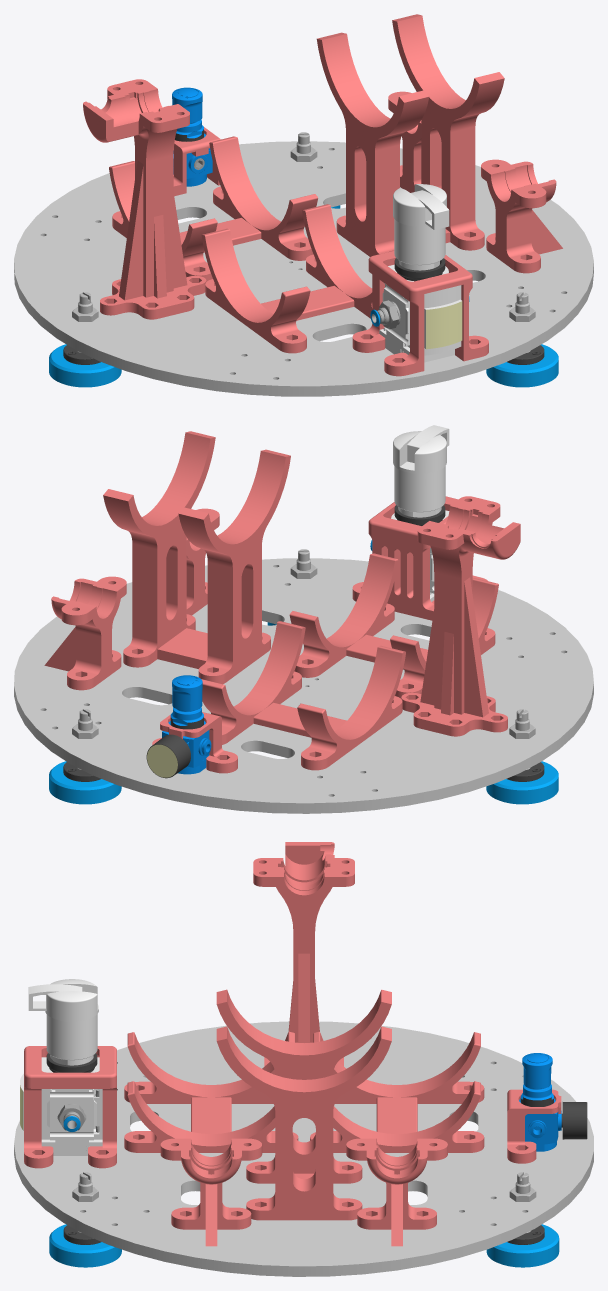
The picture shows the model from 3 angles, top to bottom: view 1: azimuth 30°, elevation 25°; view 2: azimuth 150°, elevation 25°; view 3: azimuth 270°, elevation 25°; orthographic projection.
Parts seen in each view (by area): view 1: alpha3_bottom_plate-1 - Part_clonedChild, alpha3_bottle_mount_hori_top-1 - Part, alpha3_bottle_conncet_bot_mid-1 - Part, alpha3_bottle_mount_hori-1 - Part, alpha3_bottle_mount_hori-2 - Part, 527690 MS4-LR-1_4-D7-AS-1 - Part, alpha3_regulator_actuator_mounting-1 - Part, alpha3_bottle_conncet_bot-2 - Part, 8078093 MS2-LR-2---(mechanical high)p-1 - Part, S105001step12 - Part 3, S105001.step<1>[2] - Part, alpha3_bottle_conncet_bot-1 - Part (+4 smaller); view 2: alpha3_bottom_plate-1 - Part_clonedChild, alpha3_bottle_mount_hori_top-1 - Part, alpha3_bottle_conncet_bot_mid-1 - Part, alpha3_bottle_mount_hori-2 - Part, alpha3_bottle_mount_hori-1 - Part, alpha3_bottle_conncet_bot-1 - Part, 527690 MS4-LR-1_4-D7-AS-1 - Part, alpha3_regulator_actuator_mounting-1 - Part, 8078093 MS2-LR-2---(mechanical high)p-1 - Part, S105001step12 - Part 2, S105001step12 - Part 3, alpha3_regulator_levitation_mounting-1 - Part (+3 smaller); view 3: alpha3_bottom_plate-1 - Part_clonedChild, alpha3_bottle_mount_hori_top-1 - Part, alpha3_bottle_mount_hori-1 - Part, alpha3_bottle_mount_hori-2 - Part, 527690 MS4-LR-1_4-D7-AS-1 - Part, alpha3_bottle_conncet_bot_mid-1 - Part, alpha3_regulator_actuator_mounting-1 - Part, alpha3_bottle_conncet_bot-2 - Part, alpha3_bottle_conncet_bot-1 - Part, 8078093 MS2-LR-2---(mechanical high)p-1 - Part, alpha3_regulator_levitation_mounting-1 - Part, S105001step12 - Part 2 (+2 smaller).
Boxes of the visible parts, box(x1,y1,x2,y2) form: alpha3_bottom_plate-1 - Part_clonedChild: box(14, 141, 593, 396); alpha3_bottle_mount_hori_top-1 - Part: box(316, 14, 504, 256); alpha3_bottle_conncet_bot_mid-1 - Part: box(83, 79, 206, 319); alpha3_bottle_mount_hori-1 - Part: box(201, 204, 372, 353); alpha3_bottle_mount_hori-2 - Part: box(109, 136, 318, 281); 527690 MS4-LR-1_4-D7-AS-1 - Part: box(379, 184, 461, 362); alpha3_regulator_actuator_mounting-1 - Part: box(352, 251, 488, 376); alpha3_bottle_conncet_bot-2 - Part: box(481, 159, 562, 273); 8078093 MS2-LR-2---(mechanical high)p-1 - Part: box(172, 87, 212, 186); S105001step12 - Part 3: box(49, 344, 121, 386); S105001.step<1>[2] - Part: box(486, 344, 558, 386); alpha3_bottle_conncet_bot-1 - Part: box(388, 91, 421, 192); alpha3_bottom_plate-1 - Part_clonedChild: box(14, 558, 593, 813); alpha3_bottle_mount_hori_top-1 - Part: box(103, 431, 290, 684); alpha3_bottle_conncet_bot_mid-1 - Part: box(401, 496, 520, 736); alpha3_bottle_mount_hori-2 - Part: box(201, 621, 405, 770); alpha3_bottle_mount_hori-1 - Part: box(289, 553, 498, 698); alpha3_bottle_conncet_bot-1 - Part: box(44, 576, 126, 690); 527690 MS4-LR-1_4-D7-AS-1 - Part: box(391, 425, 449, 601); alpha3_regulator_actuator_mounting-1 - Part: box(352, 496, 487, 620); 8078093 MS2-LR-2---(mechanical high)p-1 - Part: box(162, 675, 211, 774); S105001step12 - Part 2: box(49, 761, 121, 803); S105001step12 - Part 3: box(486, 761, 558, 803); alpha3_regulator_levitation_mounting-1 - Part: box(152, 712, 237, 773); alpha3_bottom_plate-1 - Part_clonedChild: box(14, 1021, 593, 1276); alpha3_bottle_mount_hori_top-1 - Part: box(216, 989, 391, 1220); alpha3_bottle_mount_hori-1 - Part: box(124, 1031, 298, 1152); alpha3_bottle_mount_hori-2 - Part: box(310, 1032, 484, 1152); 527690 MS4-LR-1_4-D7-AS-1 - Part: box(20, 979, 102, 1155); alpha3_bottle_conncet_bot_mid-1 - Part: box(253, 842, 354, 1066); alpha3_regulator_actuator_mounting-1 - Part: box(24, 1046, 116, 1168); alpha3_bottle_conncet_bot-2 - Part: box(160, 1138, 262, 1246); alpha3_bottle_conncet_bot-1 - Part: box(346, 1138, 447, 1246); 8078093 MS2-LR-2---(mechanical high)p-1 - Part: box(519, 1053, 561, 1151); alpha3_regulator_levitation_mounting-1 - Part: box(507, 1089, 561, 1163); S105001step12 - Part 2: box(486, 1224, 559, 1267).
Bounding box in the file's own units: 0.3998 × 0.1951 × 0.3997.
